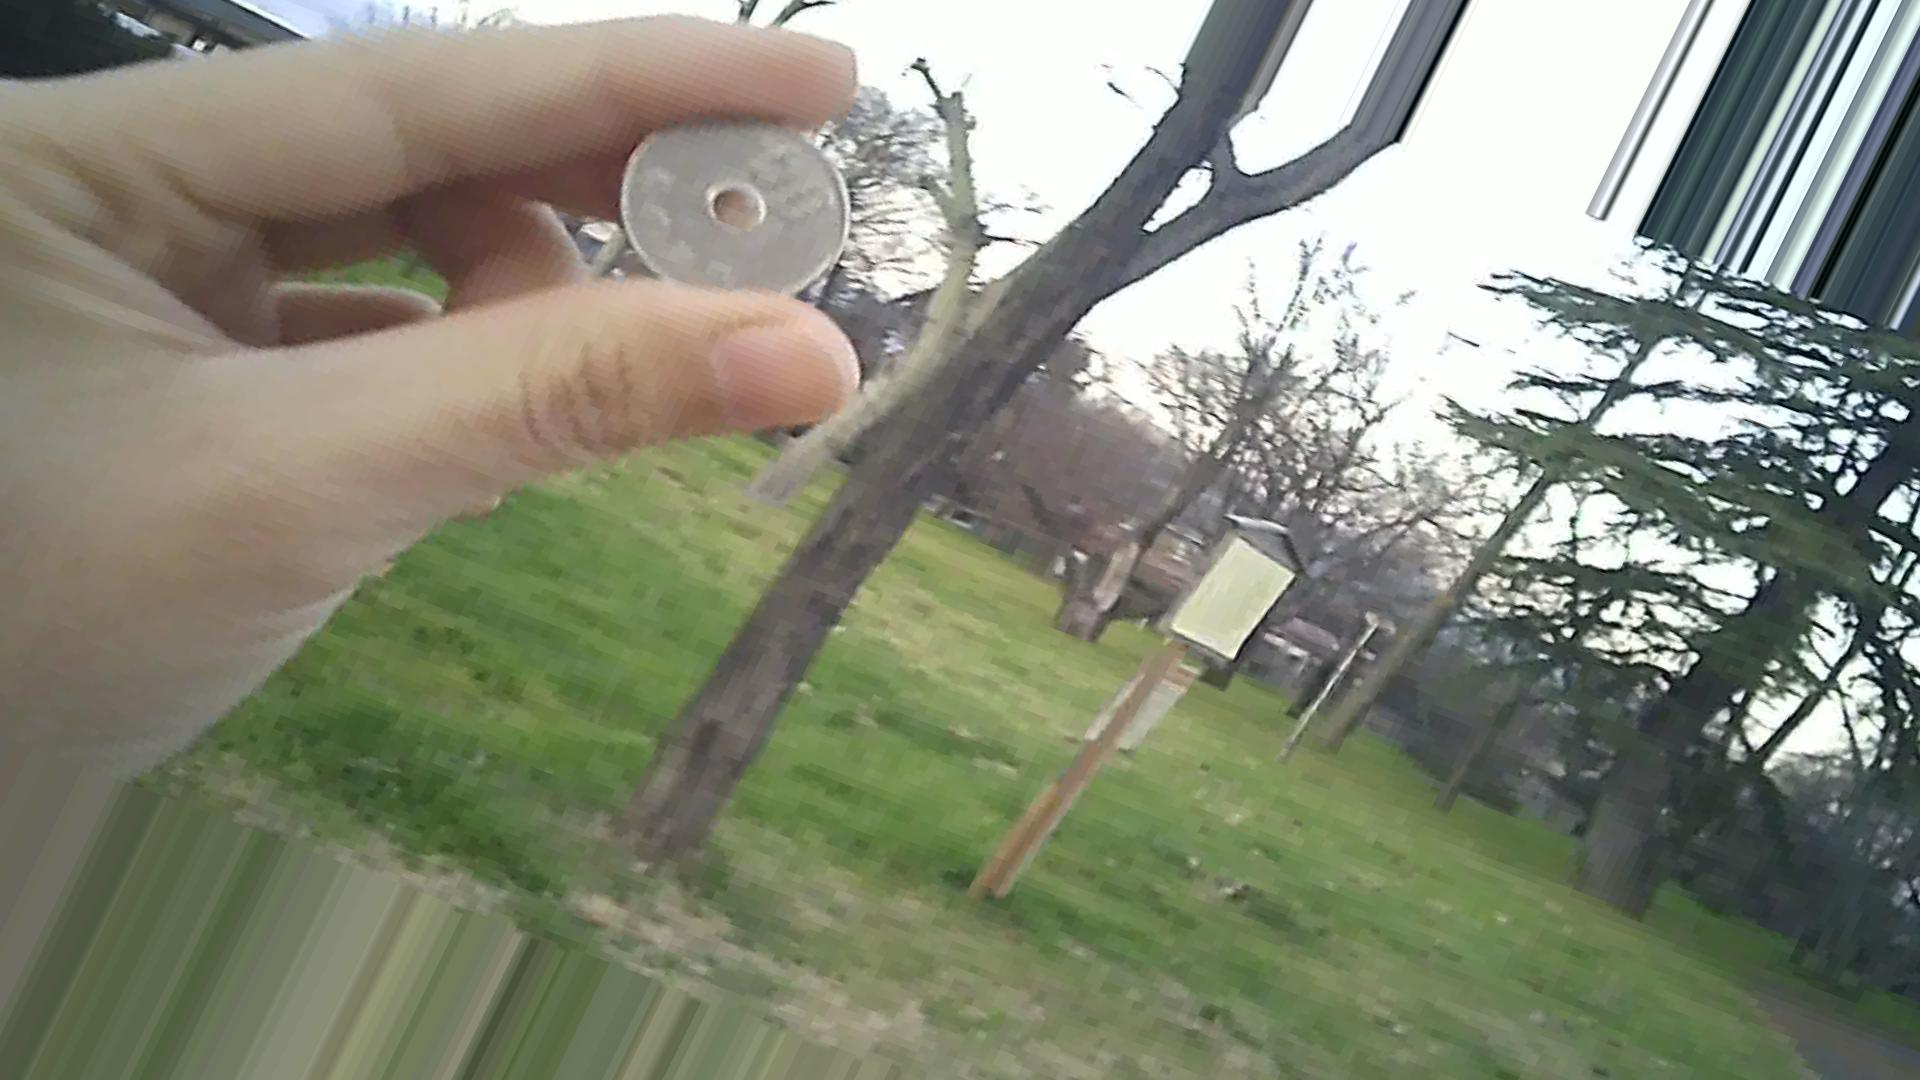50 Yen: (611, 105, 865, 320)
